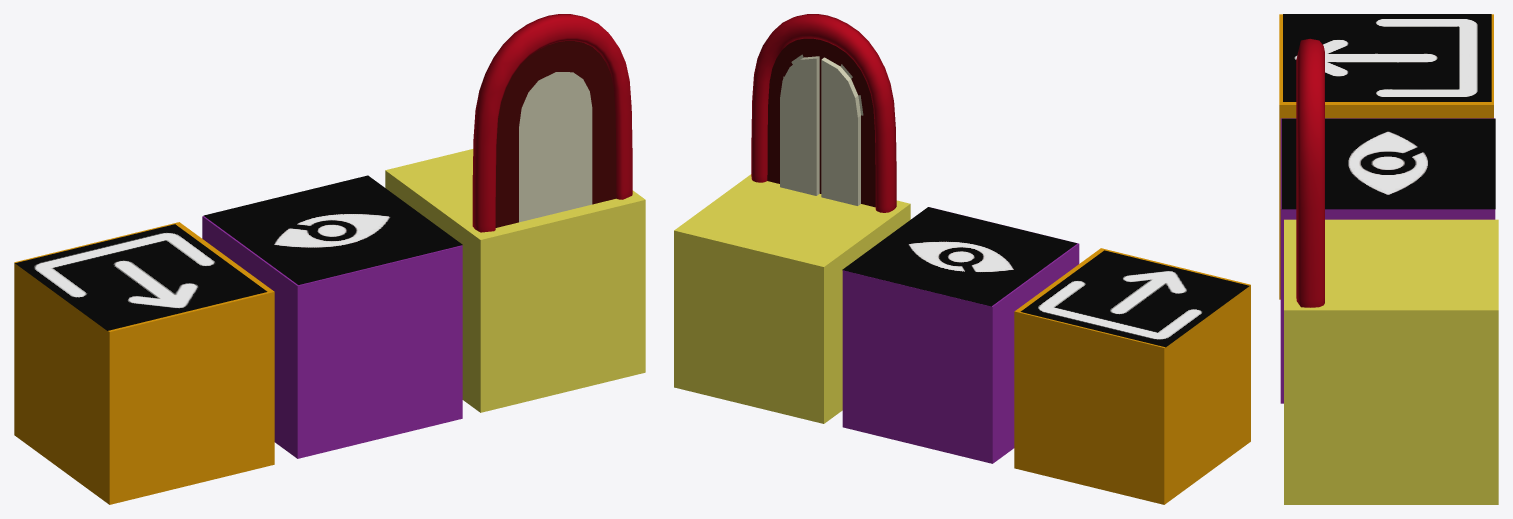
File: Cubbies_Block_item.fbx
3 renders of one model, left to right at view 1: azimuth 30°, elevation 25°; view 2: azimuth 150°, elevation 25°; view 3: azimuth 270°, elevation 25°, orthographic. The views are drawn at different scales.
Visible parts, largest first — view 1: Diem ket thuc, Block_up, Block goi y; view 2: Diem ket thuc, Block_up, Block goi y; view 3: Diem ket thuc, Block_up, Block goi y.
Boxes of the visible parts, box(x1,y1,x2,y2) form: Diem ket thuc: box(385, 14, 645, 412); Block_up: box(14, 222, 274, 504); Block goi y: box(202, 175, 462, 458); Diem ket thuc: box(674, 14, 910, 423); Block_up: box(1014, 248, 1250, 504); Block goi y: box(842, 207, 1079, 463); Diem ket thuc: box(1284, 38, 1498, 504); Block_up: box(1279, 14, 1493, 299); Block goi y: box(1280, 118, 1495, 403).
Size of the model in its own units: 6.52 by 2.04 by 4.24.
8 materials, 2 textured.
